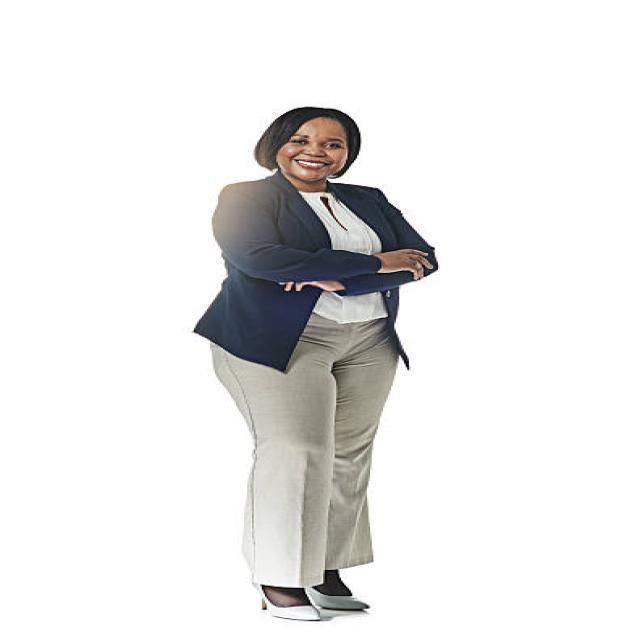Edited images: (173, 86, 470, 634)
